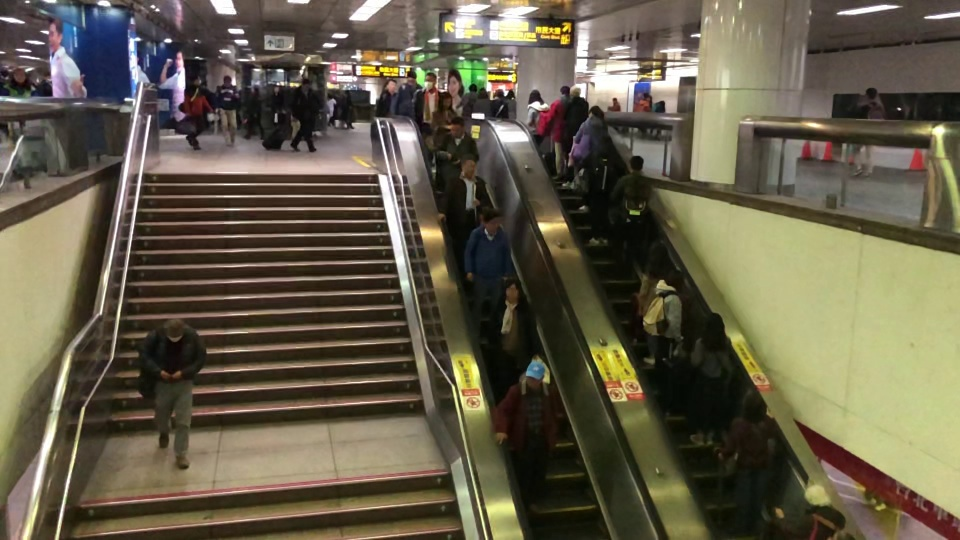person_head: (741, 389, 764, 417), (803, 483, 831, 506), (481, 206, 502, 232), (164, 318, 184, 342), (502, 277, 522, 301), (703, 312, 724, 334), (526, 366, 544, 389), (460, 153, 476, 178), (648, 241, 670, 259), (627, 155, 644, 171), (449, 117, 464, 135), (423, 72, 438, 89), (668, 269, 681, 286), (528, 89, 542, 104), (439, 91, 452, 106), (588, 104, 603, 117), (599, 135, 609, 153), (863, 87, 878, 99), (13, 67, 25, 81), (406, 69, 416, 83), (190, 74, 202, 85), (386, 78, 396, 91), (301, 77, 310, 90), (570, 85, 581, 95), (559, 85, 569, 95), (494, 89, 504, 98), (468, 82, 477, 91), (479, 87, 487, 97), (507, 88, 514, 98), (42, 72, 50, 80), (223, 75, 230, 84), (272, 84, 278, 93), (253, 84, 259, 92), (612, 97, 618, 104), (659, 100, 665, 105), (643, 93, 647, 99)
person_vbox: (135, 318, 207, 467), (490, 366, 558, 516), (713, 388, 776, 533), (463, 207, 512, 337), (689, 311, 731, 446), (611, 155, 650, 280), (490, 276, 538, 375), (636, 240, 670, 366), (438, 153, 488, 238), (642, 269, 683, 367), (573, 104, 607, 212), (773, 483, 834, 540), (847, 87, 885, 177), (582, 136, 611, 246), (437, 117, 479, 189), (412, 73, 438, 168), (430, 91, 454, 191), (546, 85, 570, 178), (183, 74, 212, 149), (289, 78, 318, 152), (215, 75, 240, 148), (243, 83, 266, 141), (564, 84, 588, 138), (526, 88, 549, 138), (396, 69, 420, 116), (1, 67, 37, 97), (376, 78, 396, 115), (456, 82, 477, 117), (637, 92, 651, 138), (271, 83, 286, 124), (651, 100, 665, 139), (473, 87, 491, 114), (491, 89, 508, 117), (40, 72, 52, 97), (506, 89, 516, 118), (607, 98, 621, 112)
